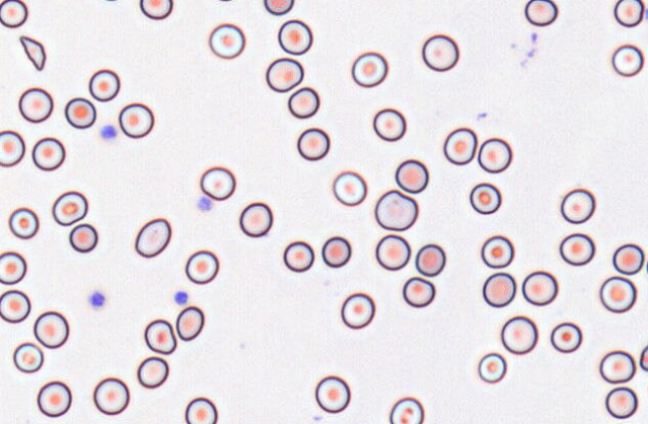PLT: (88, 290, 107, 309), (98, 123, 116, 140), (195, 196, 214, 212), (174, 291, 190, 306)
RBC: (374, 189, 418, 231), (134, 217, 171, 257), (421, 33, 459, 71), (500, 315, 537, 354), (599, 275, 636, 313), (33, 310, 69, 348), (314, 375, 350, 413), (93, 377, 129, 415), (51, 190, 88, 226), (208, 23, 245, 59), (351, 51, 388, 87), (265, 57, 303, 92), (118, 102, 154, 138), (36, 380, 71, 417), (340, 292, 375, 329), (443, 127, 477, 165), (375, 234, 410, 270), (521, 270, 557, 305), (477, 137, 512, 173), (18, 87, 53, 123), (277, 19, 312, 55), (238, 201, 273, 237), (332, 170, 367, 206), (560, 188, 595, 223), (559, 232, 595, 266), (199, 166, 235, 200), (482, 272, 516, 307), (394, 158, 428, 193), (31, 136, 65, 171), (599, 350, 635, 383), (372, 107, 406, 141), (185, 249, 218, 284), (144, 318, 176, 354), (605, 386, 638, 419), (480, 235, 513, 268), (296, 127, 329, 160), (88, 68, 120, 101), (611, 44, 644, 76), (136, 356, 168, 388), (287, 86, 319, 118), (612, 243, 644, 275), (550, 321, 582, 353), (469, 182, 501, 214), (402, 276, 435, 307), (8, 206, 39, 239), (0, 289, 30, 323), (175, 305, 204, 340), (283, 240, 314, 272), (64, 97, 96, 128), (415, 243, 445, 276), (389, 396, 424, 424), (12, 342, 43, 373), (321, 235, 351, 267), (0, 129, 25, 167), (184, 396, 217, 424), (477, 352, 506, 383), (0, 250, 26, 284), (524, 0, 558, 26), (68, 223, 98, 252), (613, 0, 644, 27), (0, 0, 28, 28), (139, 0, 172, 19), (263, 0, 294, 15), (639, 344, 648, 372), (645, 254, 648, 282), (96, 0, 124, 2), (211, 0, 239, 1)
Schistocyte: (18, 35, 48, 71)
